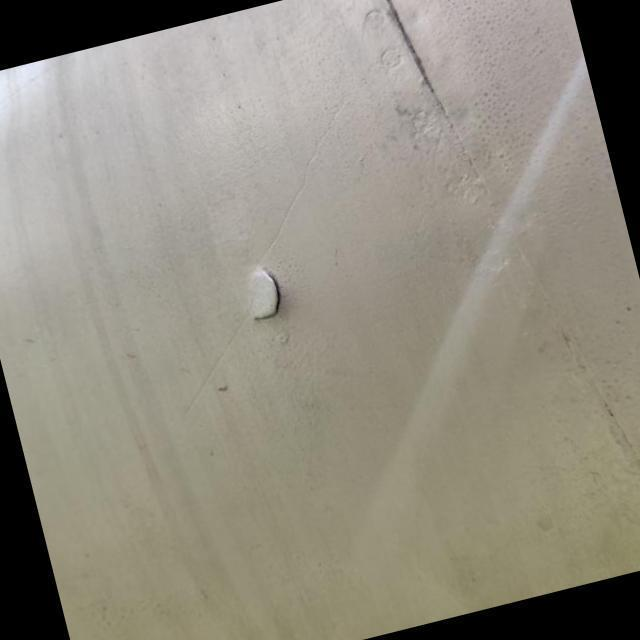Rupture: (205, 241, 320, 352)
